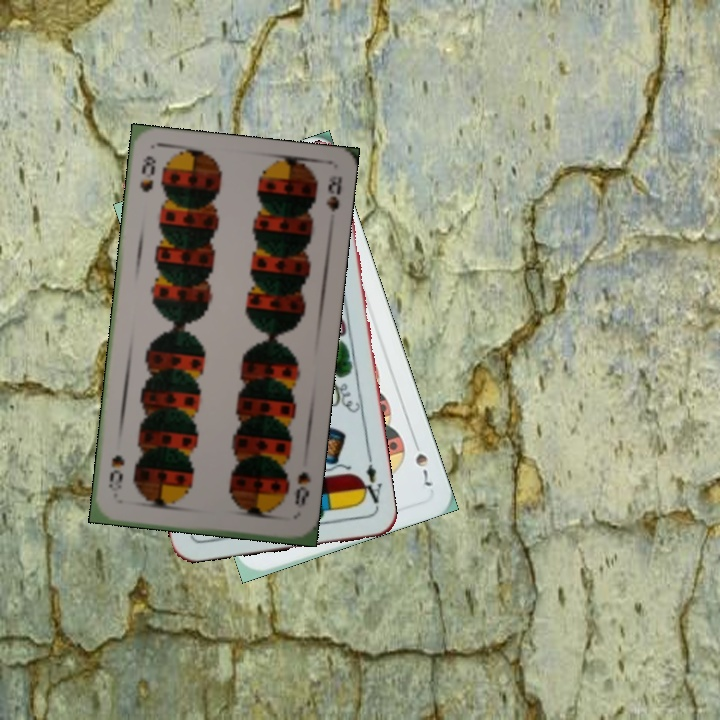EA: (356, 452, 384, 506)
S7: (408, 434, 434, 489)
S8: (291, 467, 314, 510), (135, 152, 158, 195)
